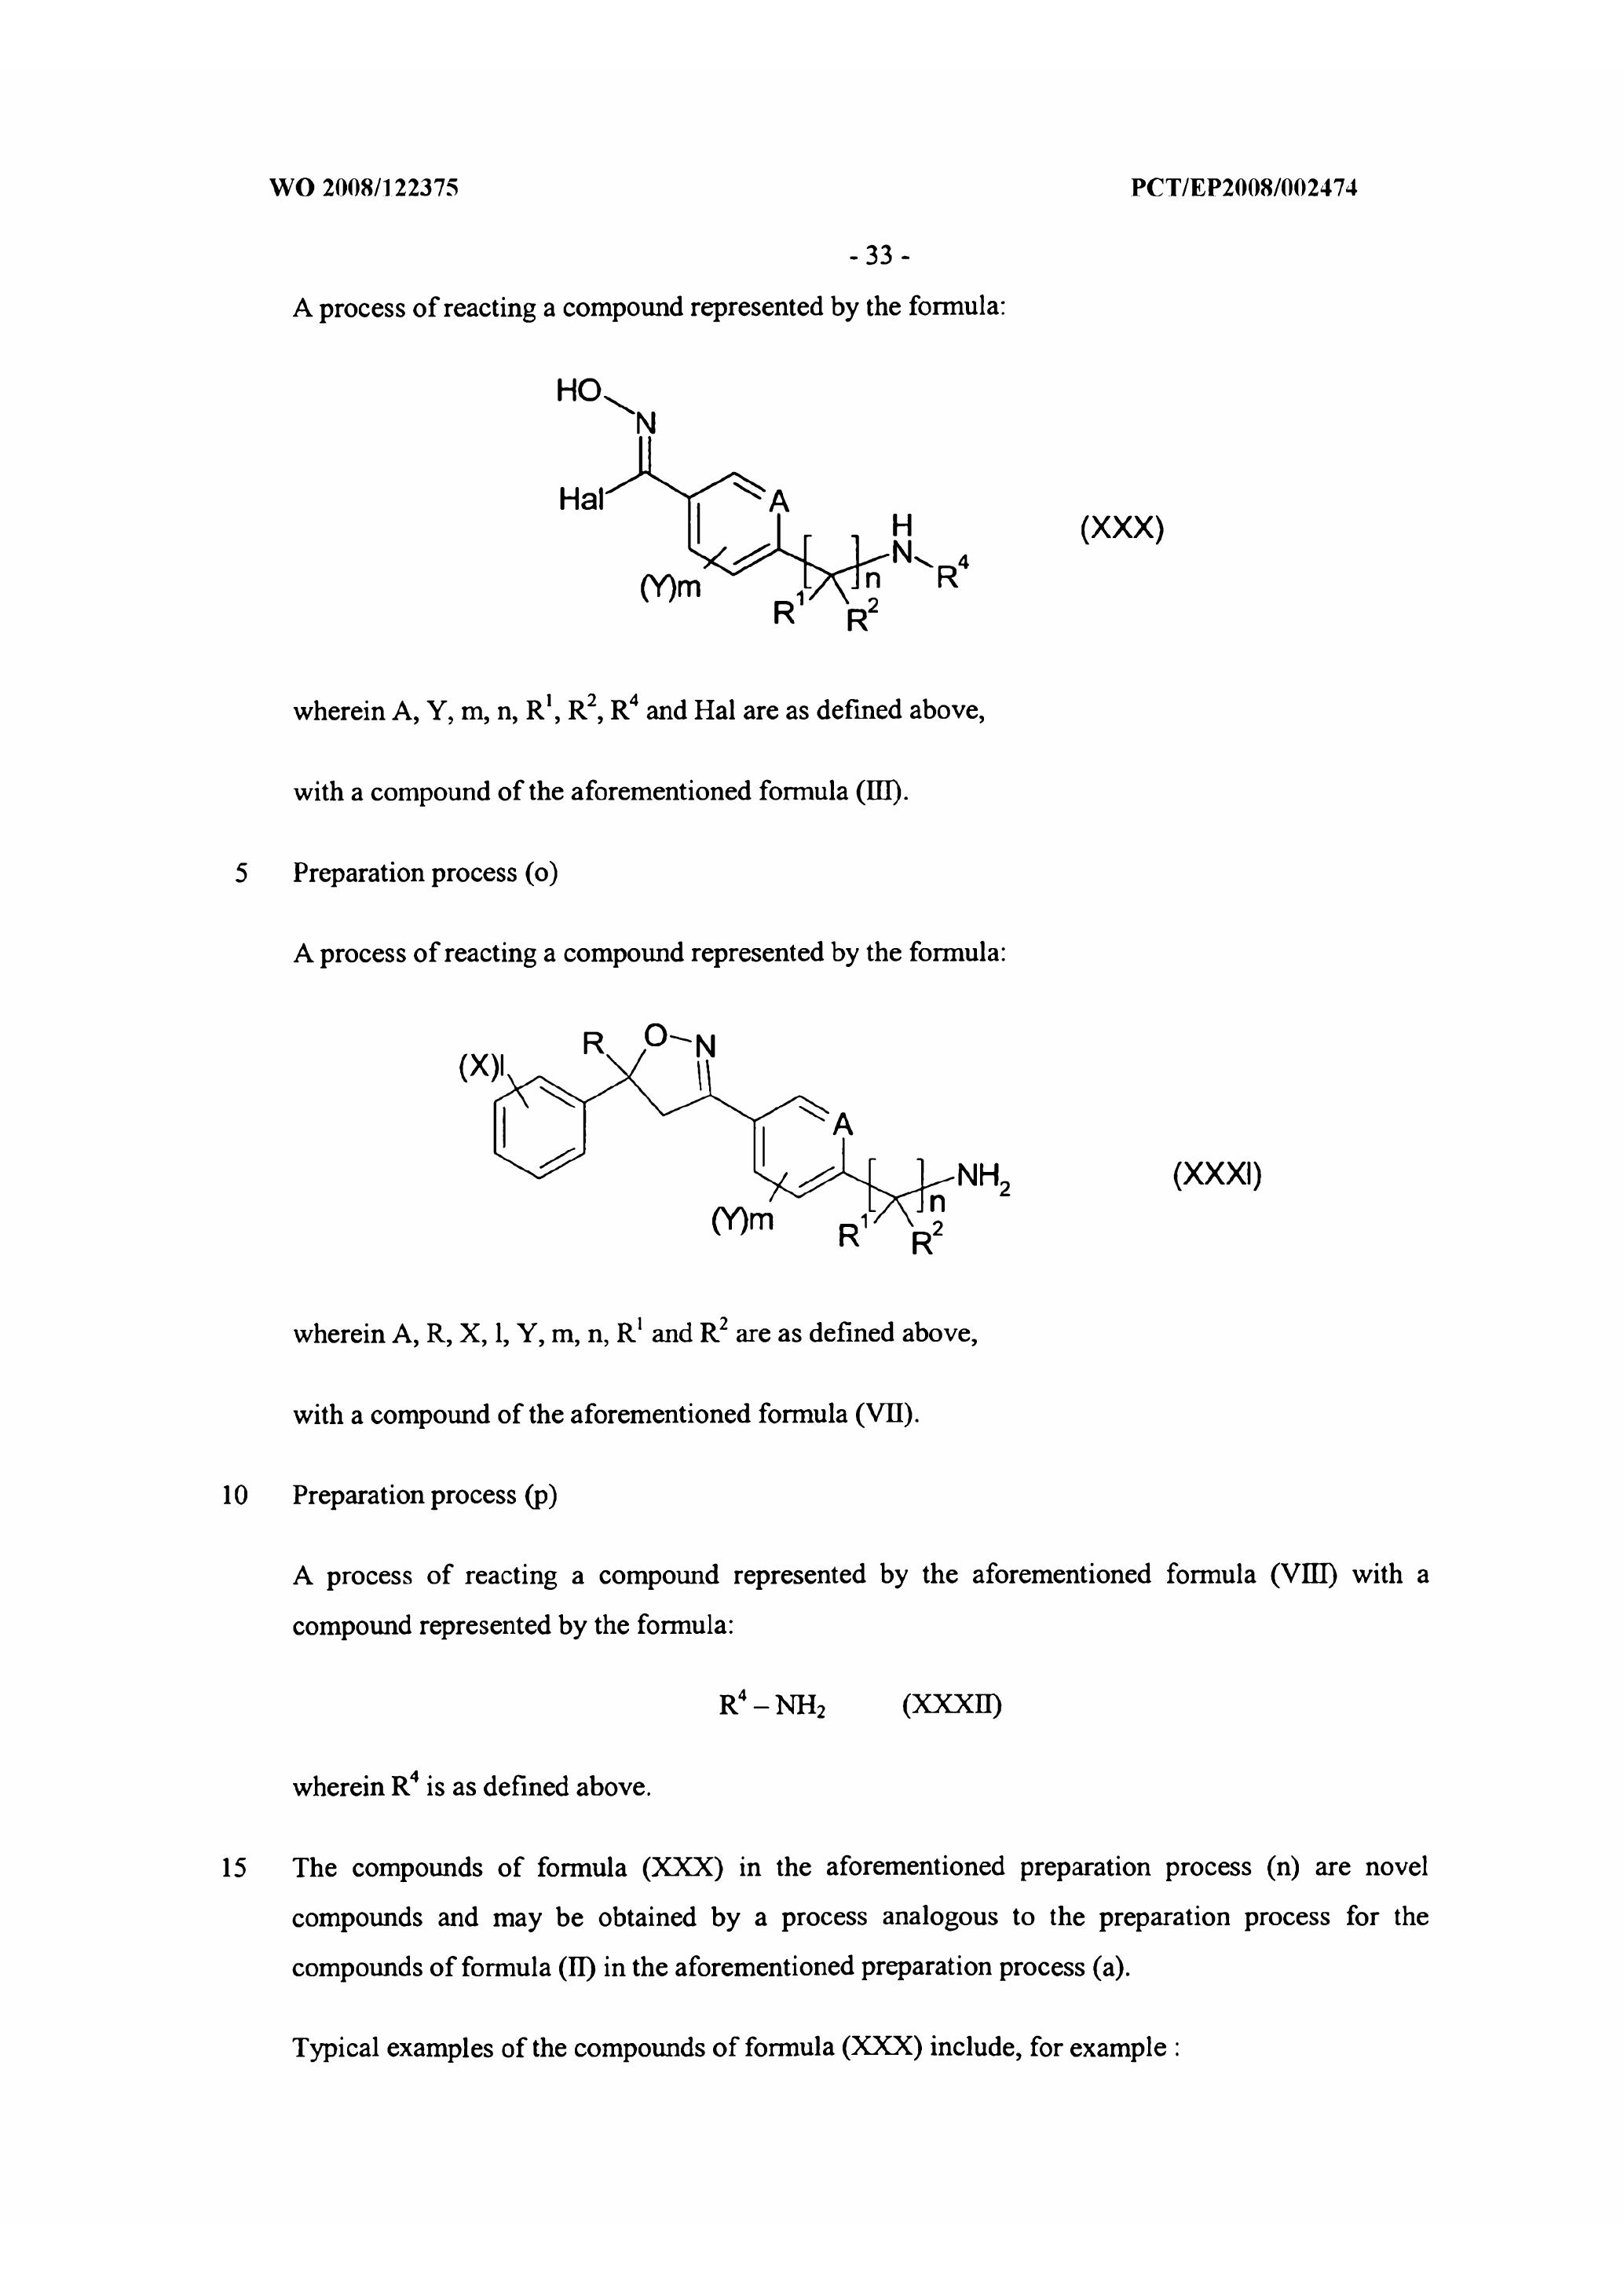reactions: (271, 919, 1063, 1445), (399, 362, 1019, 647), (271, 682, 1021, 835)
